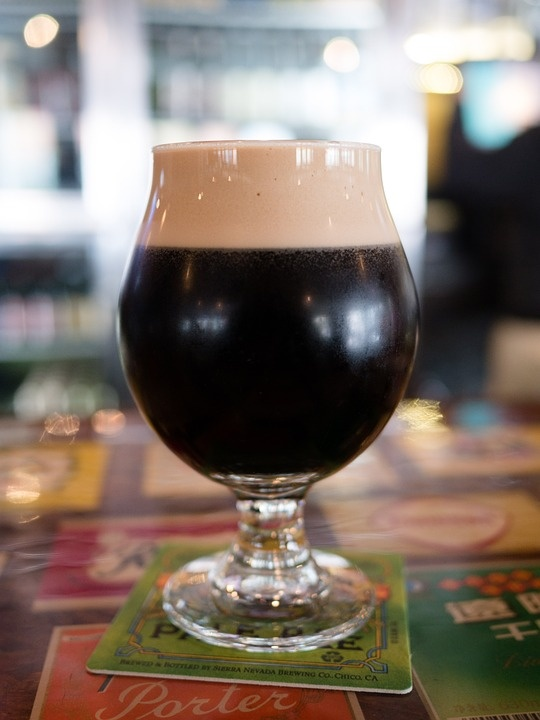glassBeer: (115, 136, 410, 600)
